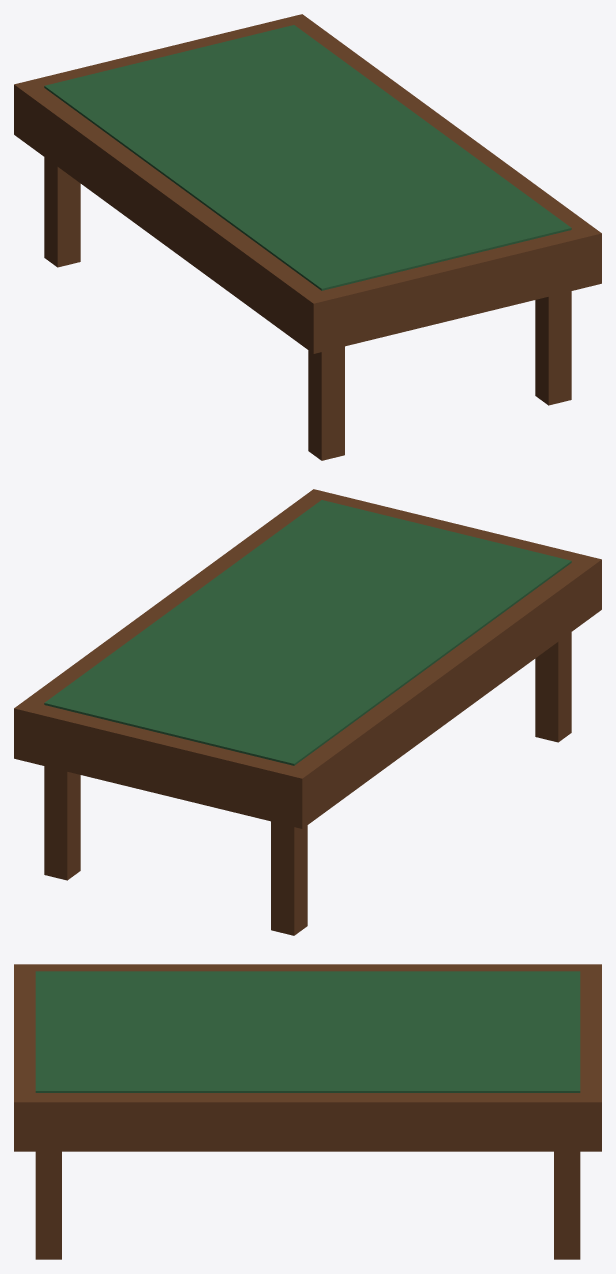
File: sport.pitch.pool_table.glb
The picture shows the model from 3 angles, top to bottom: view 1: azimuth 30°, elevation 25°; view 2: azimuth 150°, elevation 25°; view 3: azimuth 270°, elevation 25°; orthographic projection.
Visible parts, largest first — view 1: main__fabric_green, main__hardwood; view 2: main__fabric_green, main__hardwood; view 3: main__fabric_green, main__hardwood.
Boxes of the visible parts, left/top/right/bottom form: main__fabric_green: left=44, top=25, right=571, bottom=290; main__hardwood: left=14, top=14, right=601, bottom=460; main__fabric_green: left=44, top=500, right=571, bottom=765; main__hardwood: left=14, top=489, right=601, bottom=935; main__fabric_green: left=35, top=971, right=580, bottom=1092; main__hardwood: left=14, top=964, right=601, bottom=1259.
Size of the model in its own units: 1.5 by 0.855 by 2.7.
